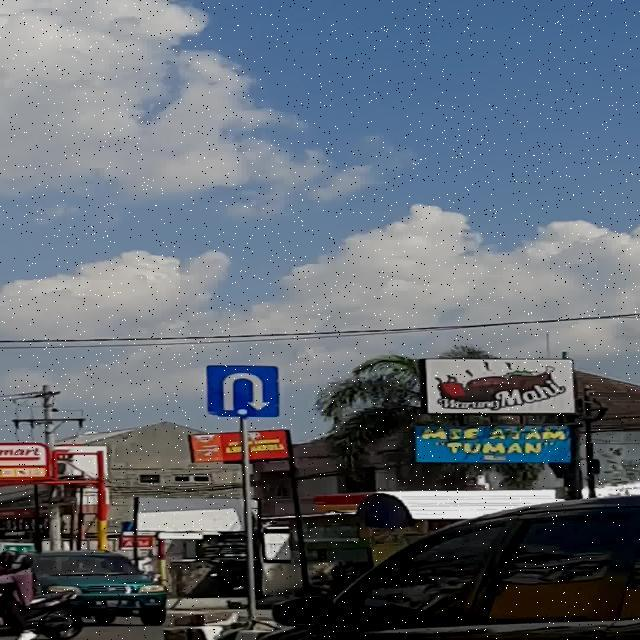Putar Balik: (206, 365, 280, 417)
